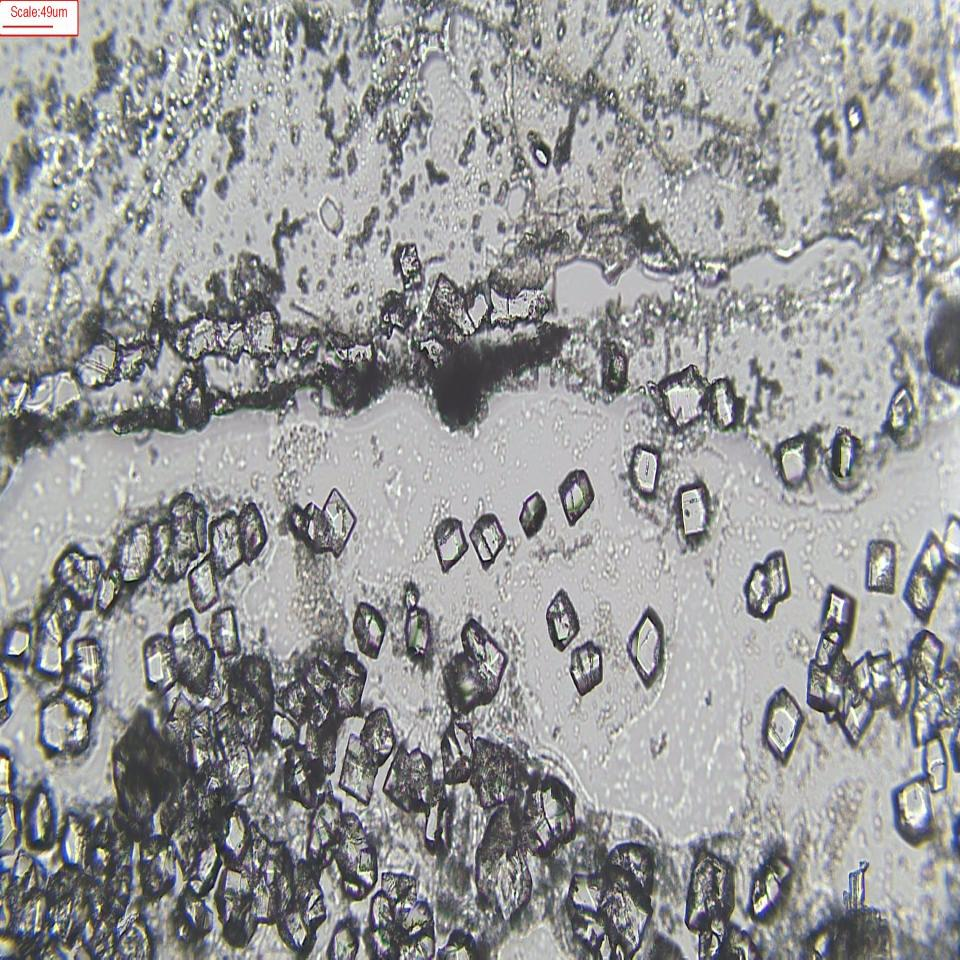crystal: (658, 356, 707, 432), (625, 611, 667, 684), (761, 687, 802, 759), (340, 730, 376, 800), (895, 777, 934, 841), (817, 580, 860, 638), (677, 482, 711, 550), (210, 507, 246, 570), (558, 463, 595, 523), (352, 599, 387, 660), (470, 511, 508, 566), (187, 551, 220, 614), (864, 536, 898, 597), (406, 606, 439, 667), (433, 515, 470, 569), (572, 638, 607, 693), (23, 787, 56, 845), (630, 440, 661, 498), (546, 584, 576, 643), (778, 433, 811, 486), (206, 604, 240, 655), (704, 379, 738, 426), (517, 490, 546, 538), (832, 427, 857, 478), (845, 96, 870, 140), (319, 196, 346, 236), (530, 140, 554, 175)
not_crystal: (40, 644, 101, 766), (803, 638, 863, 722), (289, 493, 359, 554), (144, 614, 198, 685), (744, 552, 792, 614)
